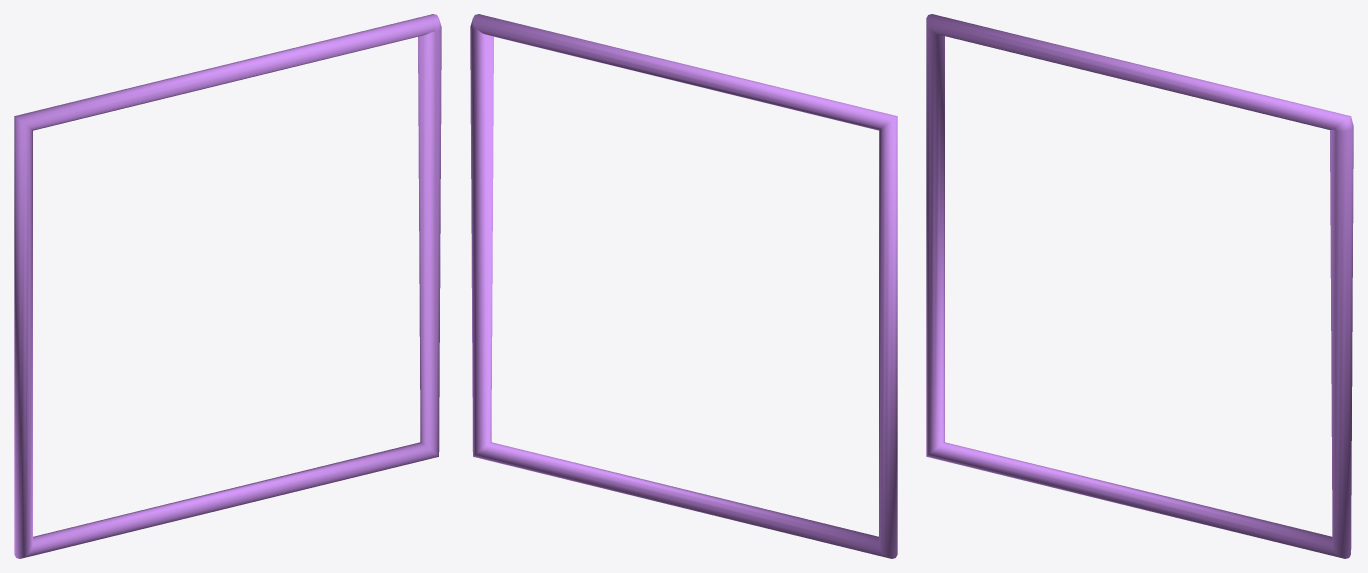
The model's file is frame-CrczLZLI.glb.
3 renders of one model, left to right at view 1: azimuth 30°, elevation 25°; view 2: azimuth 150°, elevation 25°; view 3: azimuth 330°, elevation 25°, orthographic.
Visible parts, largest first — view 1: R3D_frame_Body_0; view 2: R3D_frame_Body_0; view 3: R3D_frame_Body_0.
Boxes of the visible parts, bbox=[...] form: R3D_frame_Body_0: bbox=[14, 14, 441, 558]; R3D_frame_Body_0: bbox=[470, 14, 897, 558]; R3D_frame_Body_0: bbox=[926, 14, 1353, 558].
Bounding box in the file's own units: 3.69 × 3.66 × 0.18.
